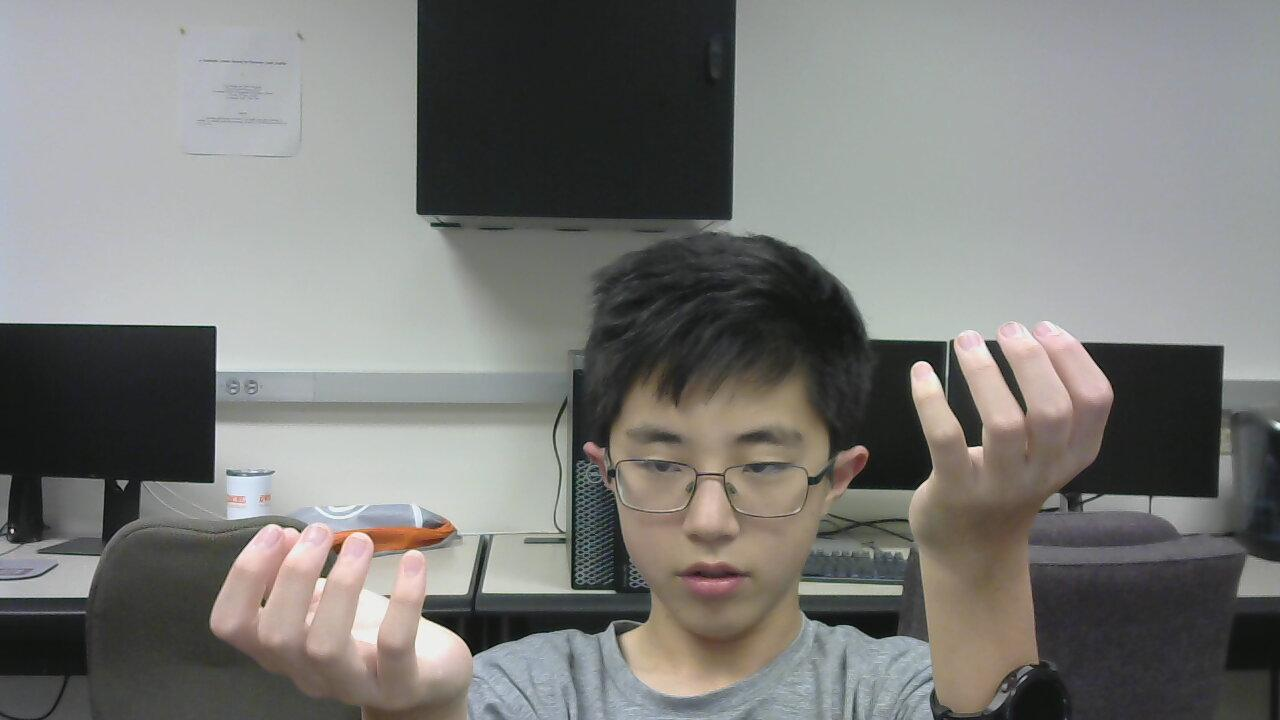hands: (199, 510, 493, 706), (905, 313, 1119, 532)
